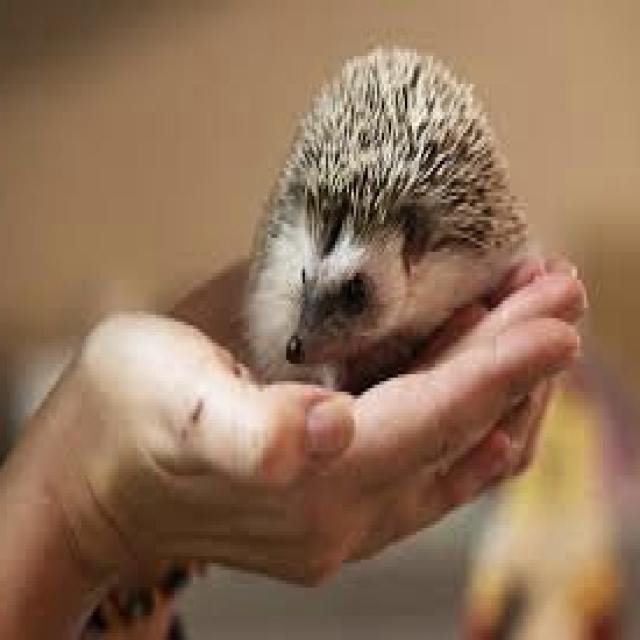hedgehog: (244, 49, 528, 392)
